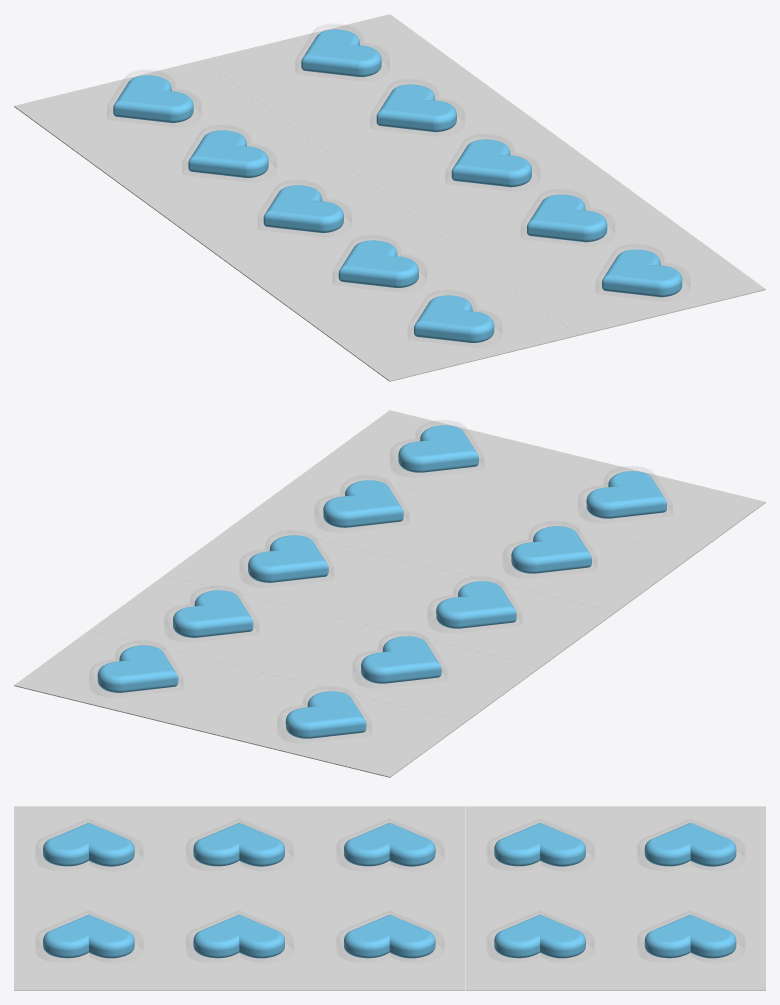
The model's file is Heart_Pill_2x5_Blue.glb.
3 views of the same model, one above another, from view 1: azimuth 30°, elevation 25°; view 2: azimuth 150°, elevation 25°; view 3: azimuth 270°, elevation 25° (orthographic).
Parts seen in each view (by area): view 1: Heart_Pill_Base_2x5, Heart_Pill_2x5, Heart_Pill_Shell_2x5, Heart_Pill_Lid_2x5; view 2: Heart_Pill_Base_2x5, Heart_Pill_2x5, Heart_Pill_Shell_2x5, Heart_Pill_Lid_2x5; view 3: Heart_Pill_Base_2x5, Heart_Pill_2x5, Heart_Pill_Lid_2x5, Heart_Pill_Shell_2x5.
Boxes of the visible parts, x1,y1,x2,y2 form: Heart_Pill_Base_2x5: (14, 14, 765, 381); Heart_Pill_2x5: (113, 29, 682, 342); Heart_Pill_Shell_2x5: (107, 24, 689, 337); Heart_Pill_Lid_2x5: (106, 44, 690, 347); Heart_Pill_Base_2x5: (14, 410, 765, 777); Heart_Pill_2x5: (97, 425, 666, 738); Heart_Pill_Shell_2x5: (89, 420, 672, 734); Heart_Pill_Lid_2x5: (88, 457, 672, 743); Heart_Pill_Base_2x5: (14, 806, 765, 990); Heart_Pill_2x5: (43, 823, 736, 958); Heart_Pill_Lid_2x5: (35, 852, 745, 963); Heart_Pill_Shell_2x5: (36, 819, 744, 949).
Bounding box in the file's own units: 6.8 × 0.336 × 11.77.
